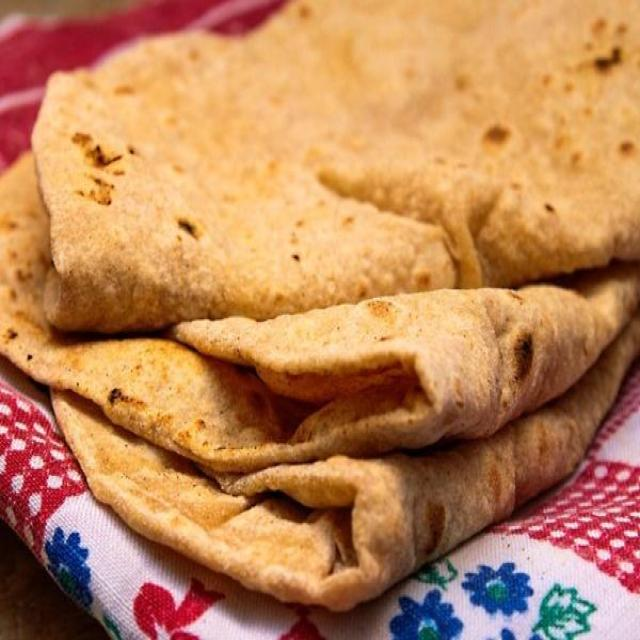ROTI: (0, 0, 639, 598)
